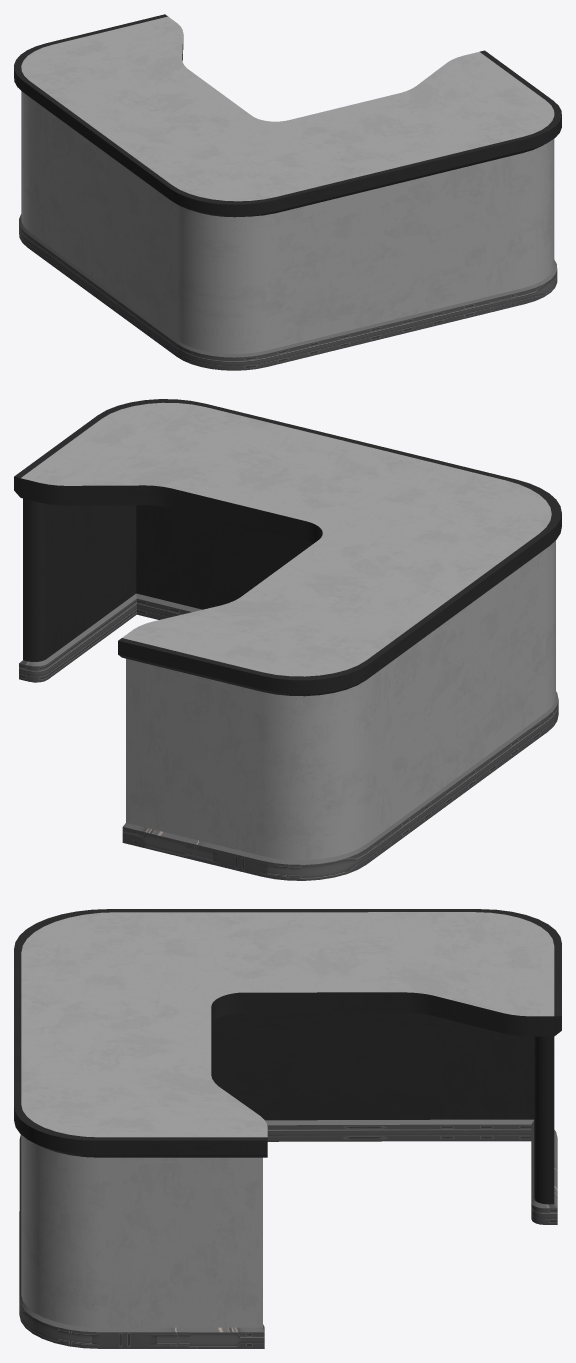
Rendered from prop_desk_l.glb.
The picture shows the model from 3 angles, top to bottom: view 1: azimuth 30°, elevation 25°; view 2: azimuth 150°, elevation 25°; view 3: azimuth 270°, elevation 25°; orthographic projection. The views are drawn at different scales.
Parts seen in each view (by area): view 1: Prop_Desk_L; view 2: Prop_Desk_L; view 3: Prop_Desk_L.
Boxes of the visible parts, x1=… form: Prop_Desk_L: x1=14, y1=14, x2=561, y2=370; Prop_Desk_L: x1=14, y1=399, x2=561, y2=880; Prop_Desk_L: x1=14, y1=909, x2=561, y2=1348.
Bounding box in the file's own units: 2.22 × 0.9396 × 2.22.
3 materials, 3 textured.
